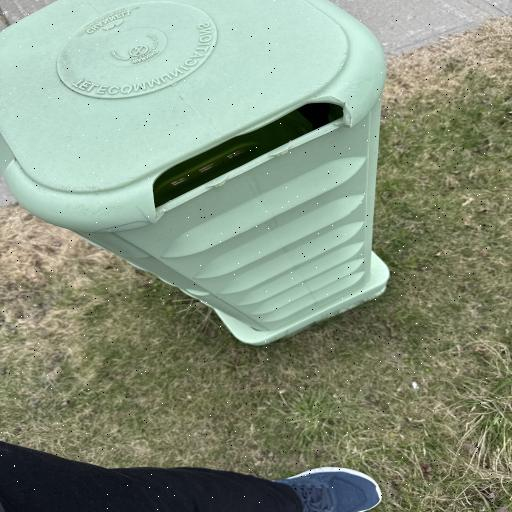Electrical Box: (0, 2, 390, 344)
